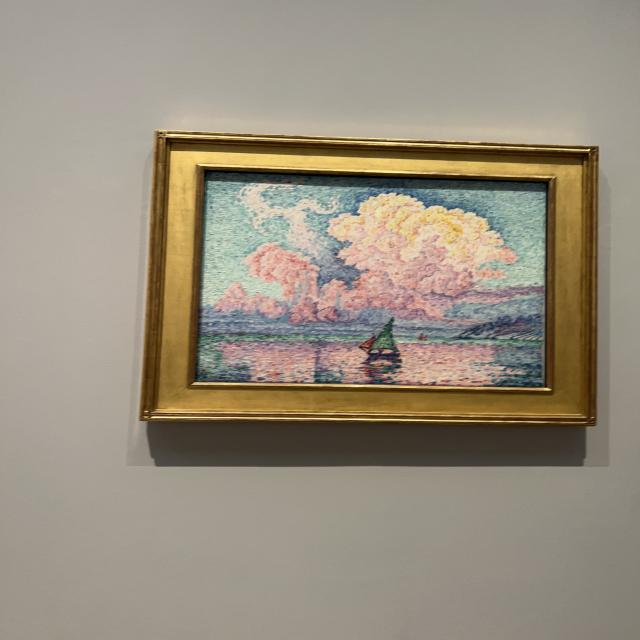sunrise: (196, 169, 549, 387)
